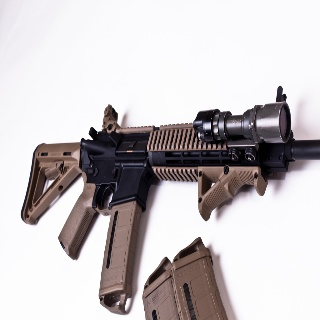rifle: (19, 85, 320, 316)
